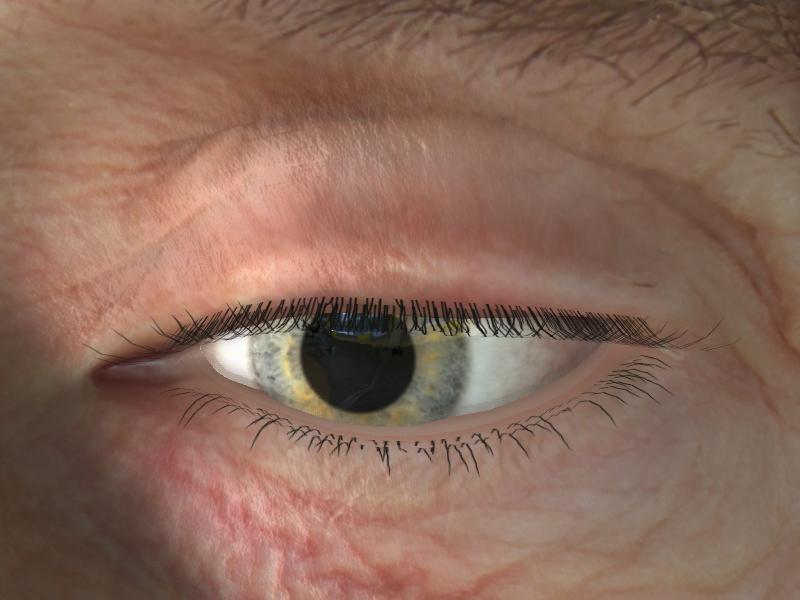eye: (246, 306, 476, 433)
